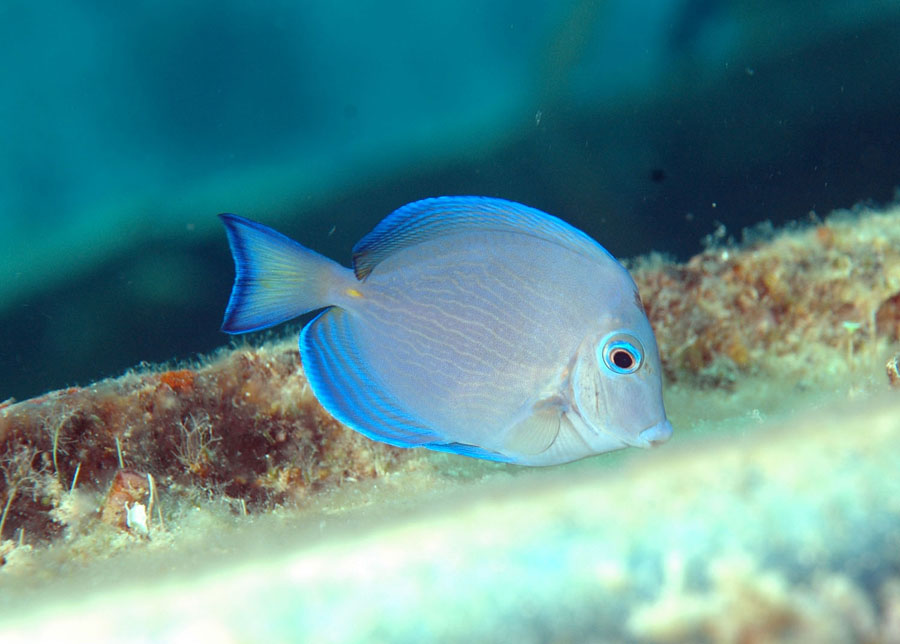Acanthurus_coeruleus: (212, 193, 679, 469)
